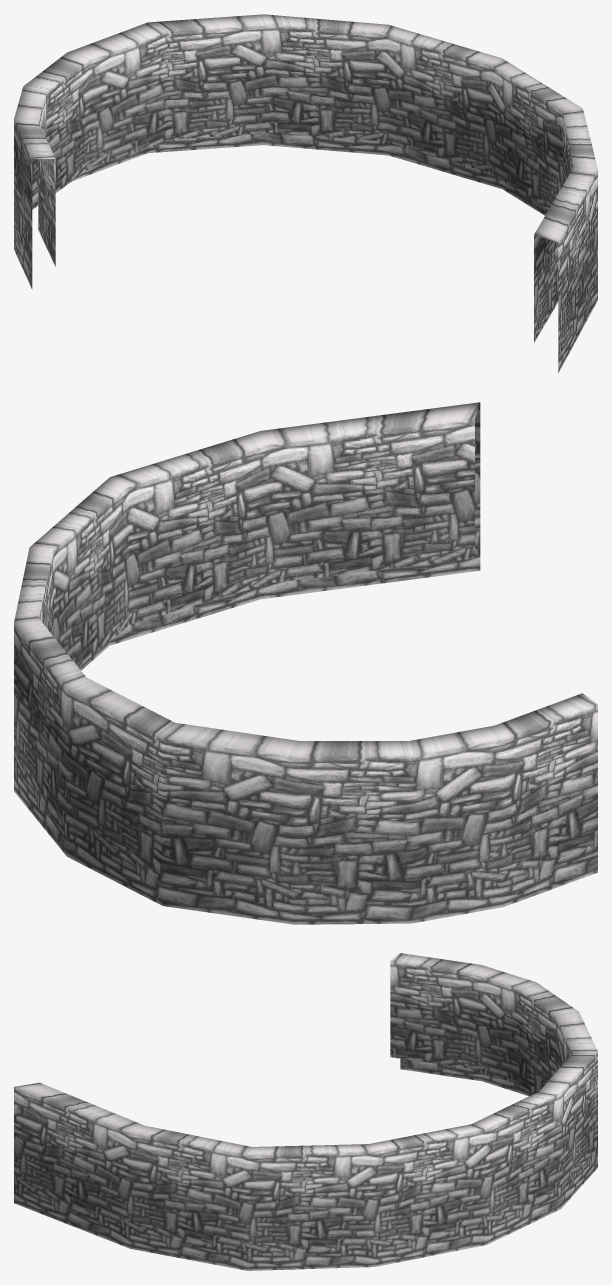
Rendered from HTOWN01_BAGENDTERRACE1.fbx.
3 renders of one model, top to bottom at view 1: azimuth 30°, elevation 25°; view 2: azimuth 150°, elevation 25°; view 3: azimuth 270°, elevation 25°, orthographic. The views are drawn at different scales.
Parts seen in each view (by area): view 1: HTOWN01_BAGENDTERRACE1; view 2: HTOWN01_BAGENDTERRACE1; view 3: HTOWN01_BAGENDTERRACE1.
Part boxes in pixels (x1=…): HTOWN01_BAGENDTERRACE1: x1=14, y1=14, x2=597, y2=372; HTOWN01_BAGENDTERRACE1: x1=14, y1=402, x2=597, y2=924; HTOWN01_BAGENDTERRACE1: x1=14, y1=953, x2=597, y2=1270.
Size of the model in its own units: 79238 by 21304 by 96976.
1 material, 1 textured.
